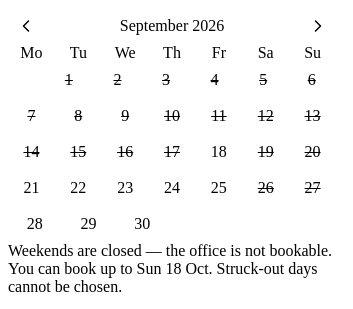
Test: DatePicker (US-005/AC-05, AC-06) › disables navigating after the month containing the last bookable date (US-005/AC-05)
This screenshot has width=353, height=309.
Click the button named "Next month" at coordinates (318, 26), box [300,8,336,44]
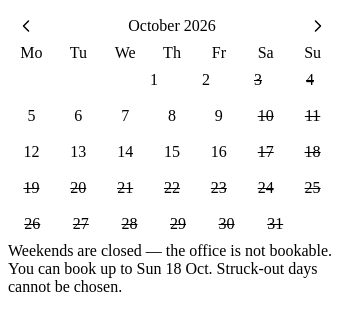
Expected: the text "October 2026" is shown, [128,17,216,34]
